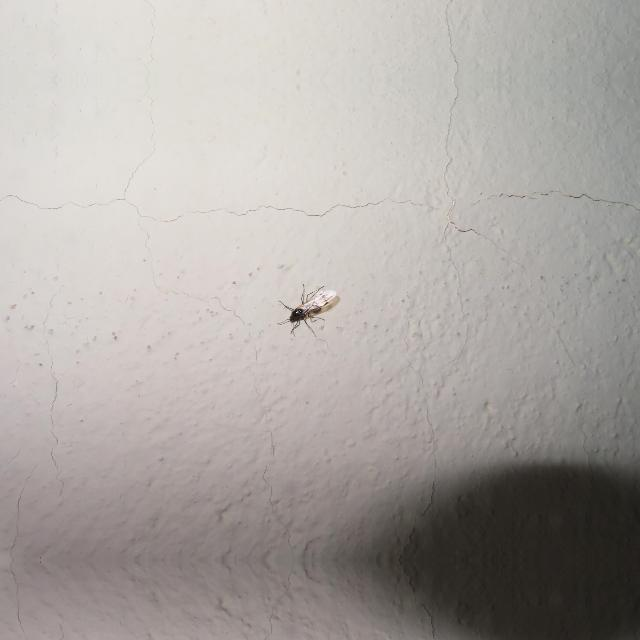Messor: (270, 283, 342, 333)
